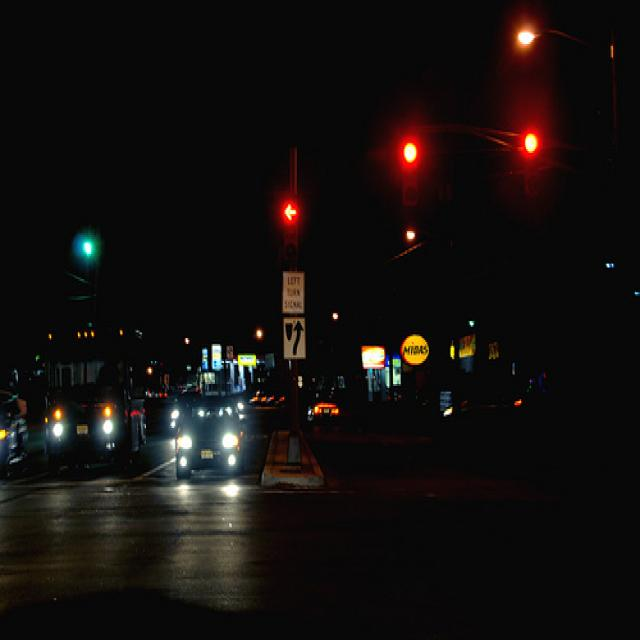Car: (165, 358, 247, 516), (31, 394, 148, 496)
